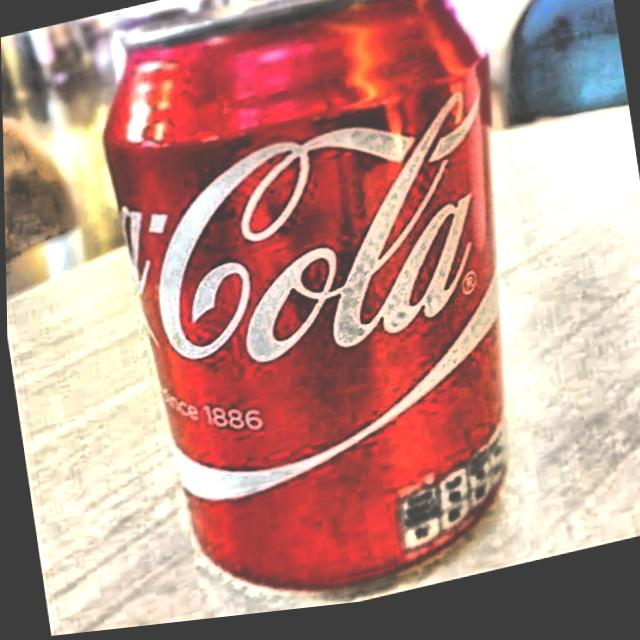Cans: (77, 0, 563, 633)
